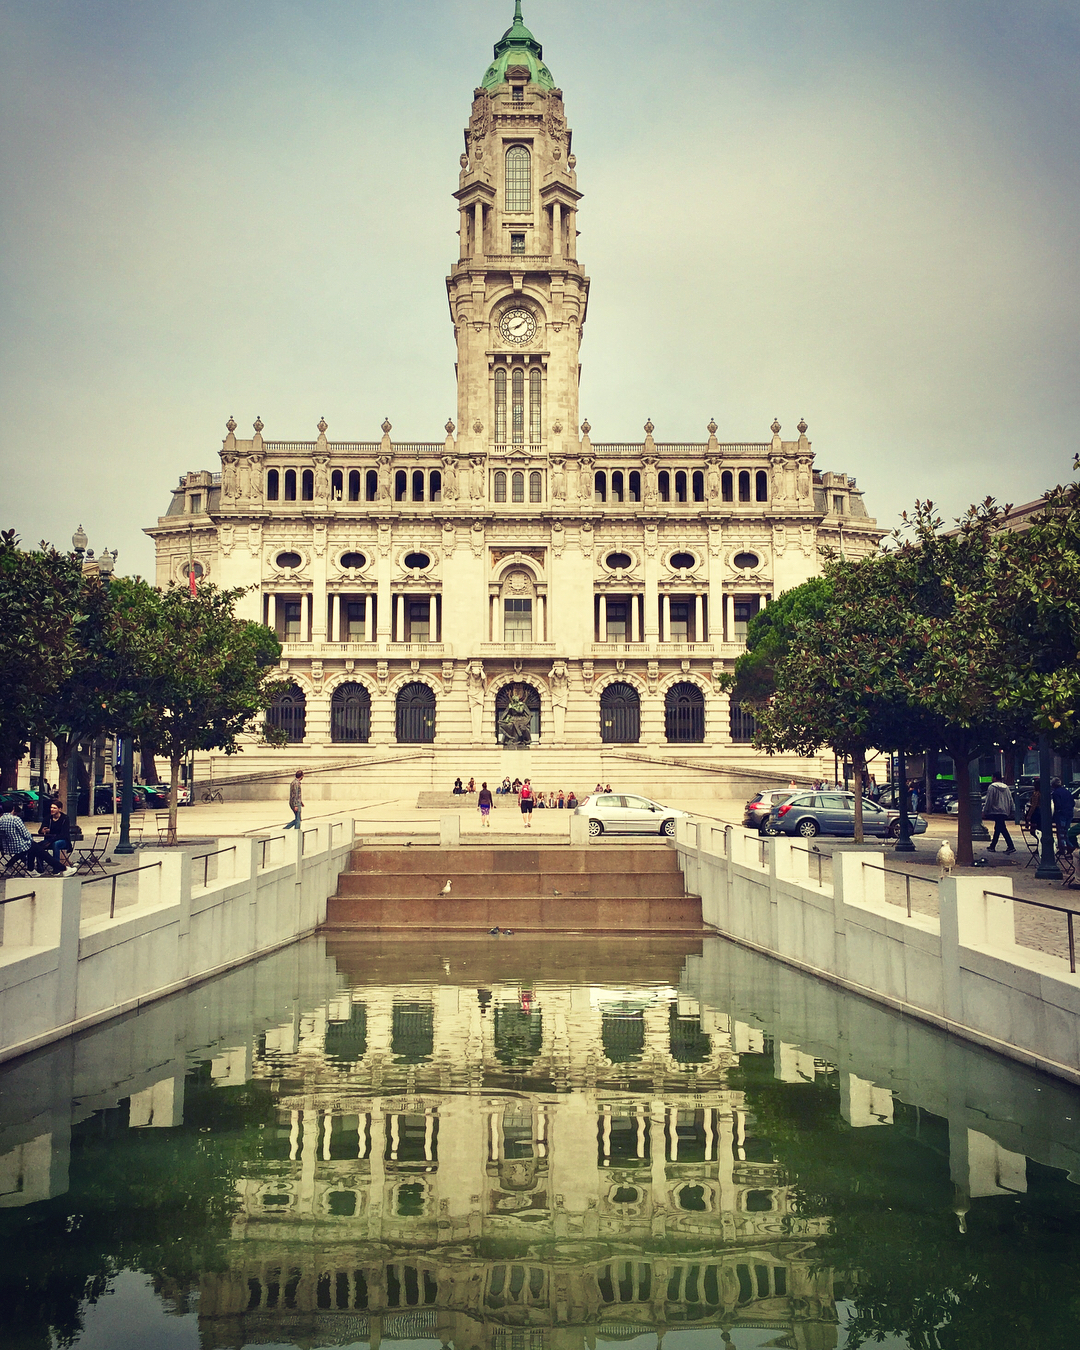camara: (143, 0, 888, 782)
